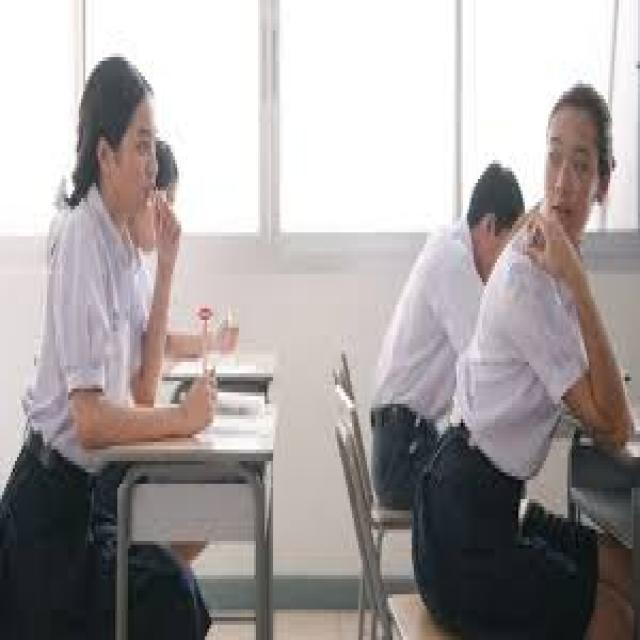cheating: (35, 53, 239, 451), (496, 85, 632, 461)
